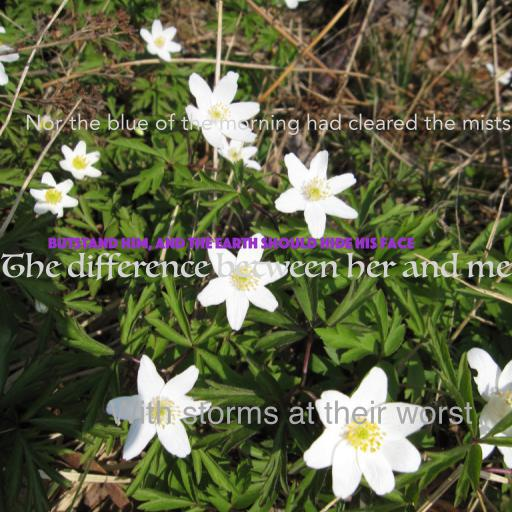Avenir: (25, 113, 511, 135)
Helvetica: (109, 400, 473, 425)
Luminari: (1, 252, 511, 281)
Phosphate: (48, 237, 414, 251)
